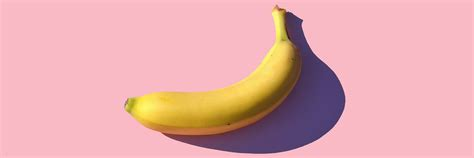banana: (126, 32, 302, 139)
